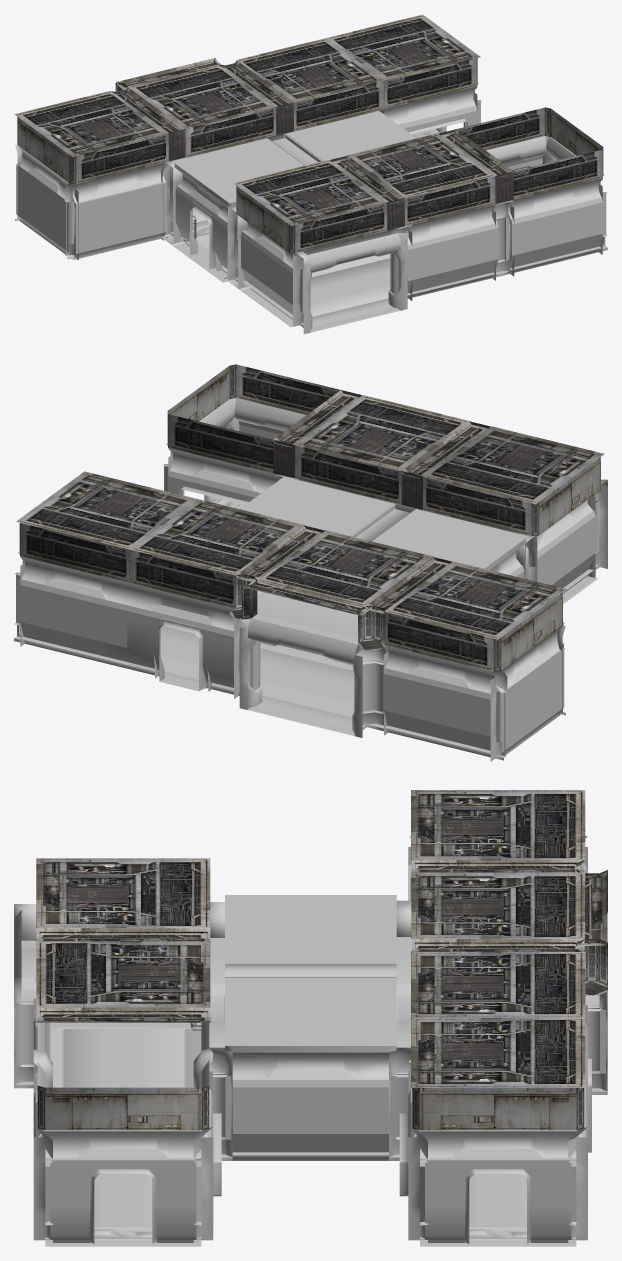
The model's file is ARC_RoomHub.FBX.
3 views of the same model, one above another, from view 1: azimuth 30°, elevation 25°; view 2: azimuth 150°, elevation 25°; view 3: azimuth 270°, elevation 25° (orthographic). The views are drawn at different scales.
Visible parts, largest first — view 1: ARC_RoomHub_Ceiling2, ARC_RoomHub_Ceiling1, ARC_RoomHub_Walls1, ARC_RoomHub_Walls2, ARC_RoomHub_Walls5, ARC_RoomHub_Floor, ARC_RoomHub_Walls6, ARC_RoomHub_Walls4; view 2: ARC_RoomHub_Ceiling2, ARC_RoomHub_Ceiling1, ARC_RoomHub_Walls1, ARC_RoomHub_Walls3, ARC_RoomHub_Walls2, ARC_RoomHub_Floor, ARC_RoomHub_Walls5, ARC_RoomHub_Walls6; view 3: ARC_RoomHub_Ceiling2, ARC_RoomHub_Walls1, ARC_RoomHub_Ceiling1, ARC_RoomHub_Floor, ARC_RoomHub_Walls5, ARC_RoomHub_Walls4, ARC_RoomHub_Walls3.
Boxes of the visible parts, x1,y1,x2,y2 form: ARC_RoomHub_Ceiling2: (14,14,480,184); ARC_RoomHub_Ceiling1: (233,107,603,253); ARC_RoomHub_Walls1: (161,109,514,334); ARC_RoomHub_Walls2: (15,145,166,259); ARC_RoomHub_Walls5: (486,136,607,274); ARC_RoomHub_Floor: (71,129,440,332); ARC_RoomHub_Walls6: (175,174,292,319); ARC_RoomHub_Walls4: (383,82,481,134); ARC_RoomHub_Ceiling2: (16,471,566,671); ARC_RoomHub_Ceiling1: (167,364,604,536); ARC_RoomHub_Walls1: (234,474,607,737); ARC_RoomHub_Walls3: (14,556,234,694); ARC_RoomHub_Walls2: (384,622,565,761); ARC_RoomHub_Floor: (128,498,597,735); ARC_RoomHub_Walls5: (162,398,305,504); ARC_RoomHub_Walls6: (489,500,595,593); ARC_RoomHub_Ceiling2: (411,790,607,1130); ARC_RoomHub_Walls1: (14,895,607,1160); ARC_RoomHub_Ceiling1: (36,858,210,1130); ARC_RoomHub_Floor: (45,1022,576,1246); ARC_RoomHub_Walls5: (33,1060,221,1243); ARC_RoomHub_Walls4: (399,1089,587,1243); ARC_RoomHub_Walls3: (569,1023,591,1240).
Size of the model in its own units: 2292 by 555 by 1901.
